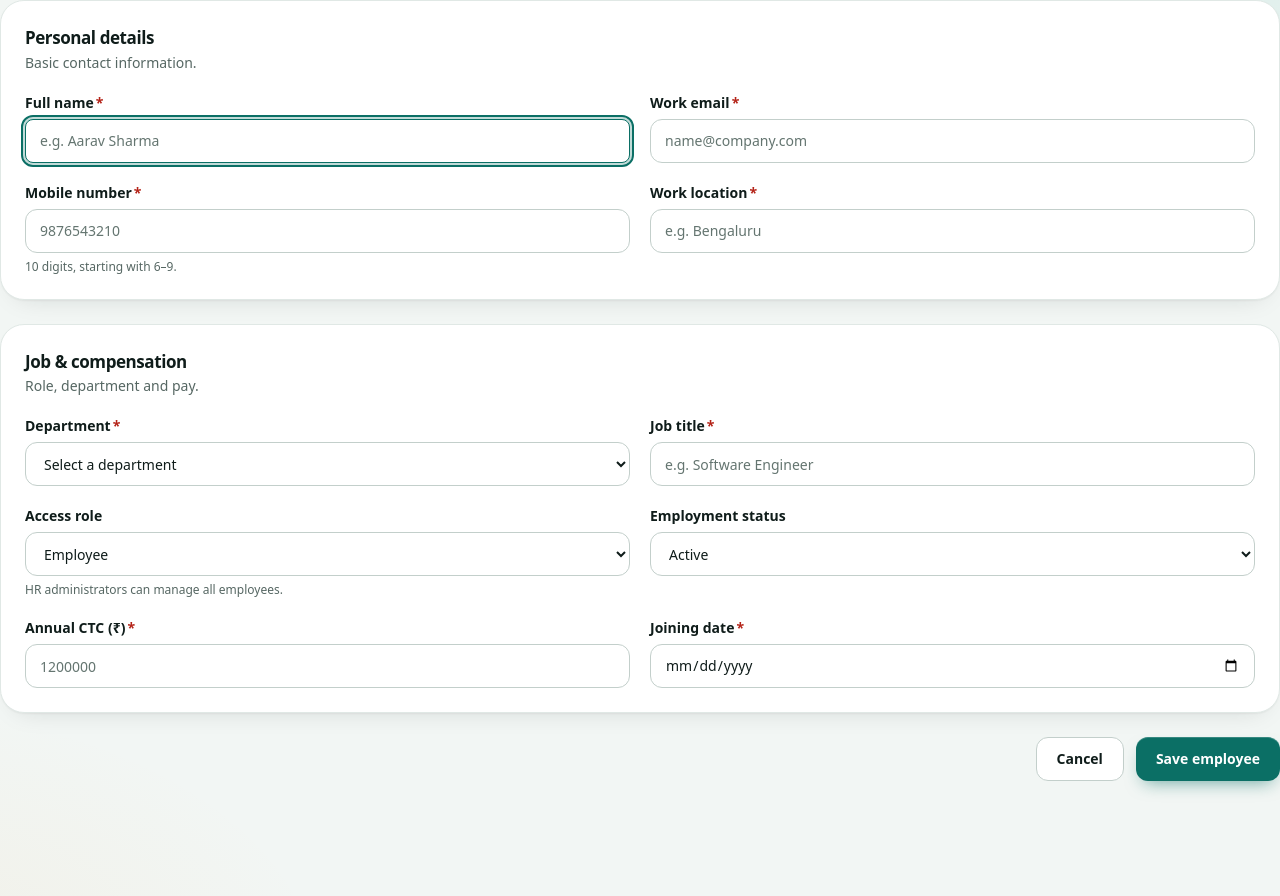
Test: EmployeeForm › shows accessible errors, focuses the first invalid field and does not submit
The image size is (1280, 896).
Click the button "Save employee". click: (1208, 759)
box: [1136,737,1279,781]
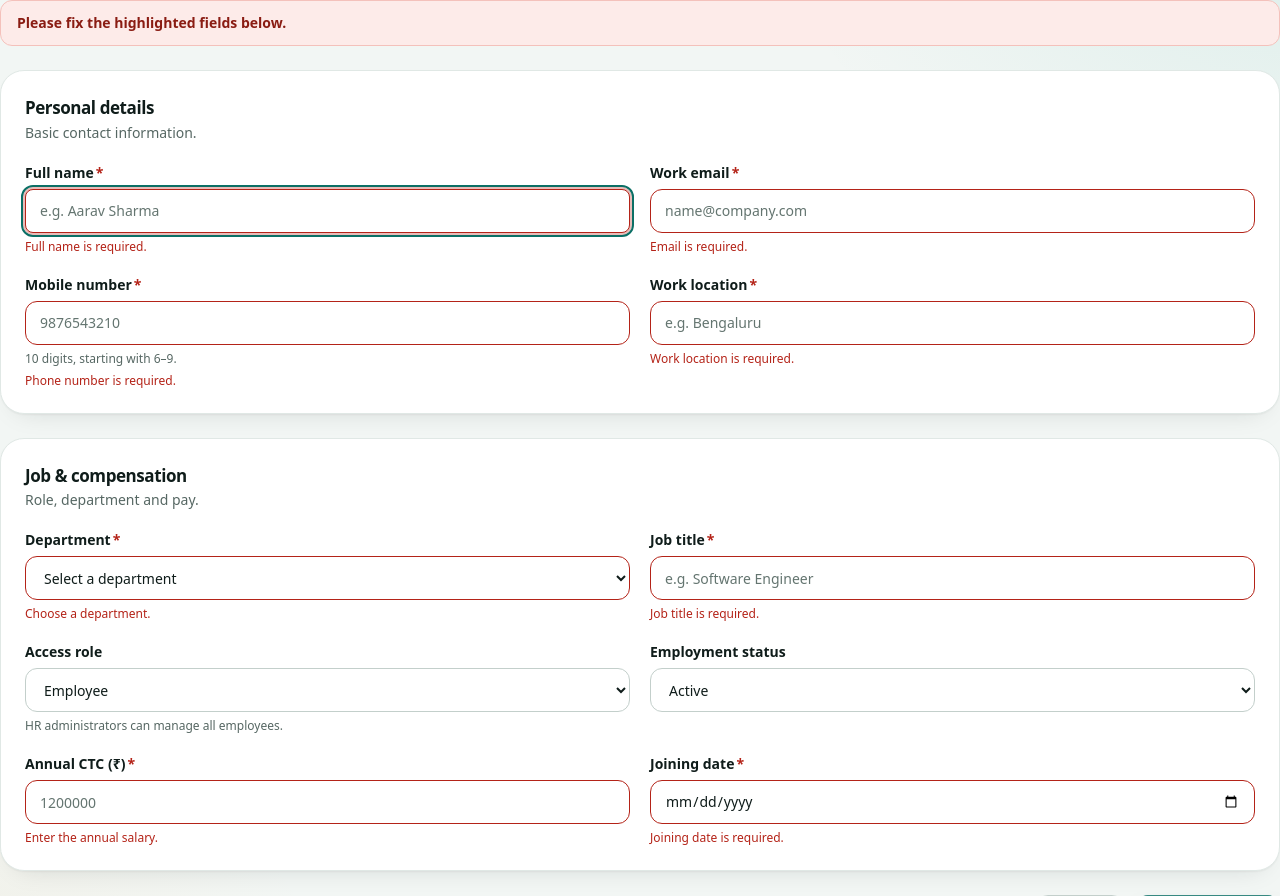
Expected: the message shows "fix the highlighted fields", [17,13,286,32]
